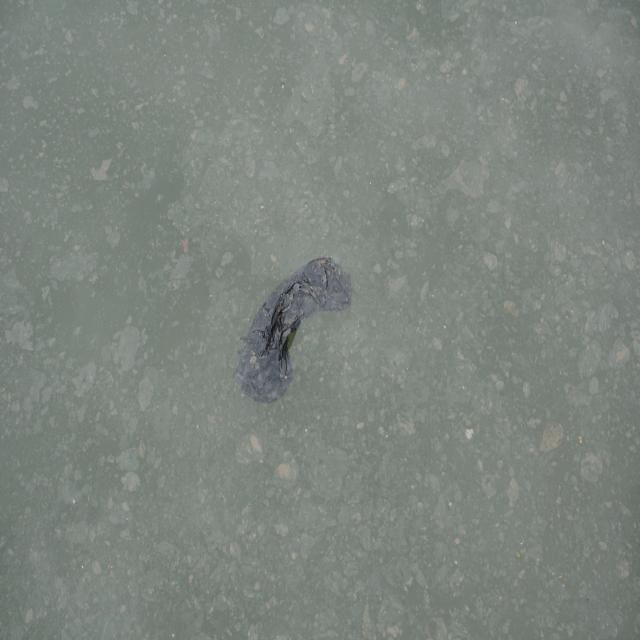Kantong Plastik: (233, 252, 355, 408)
